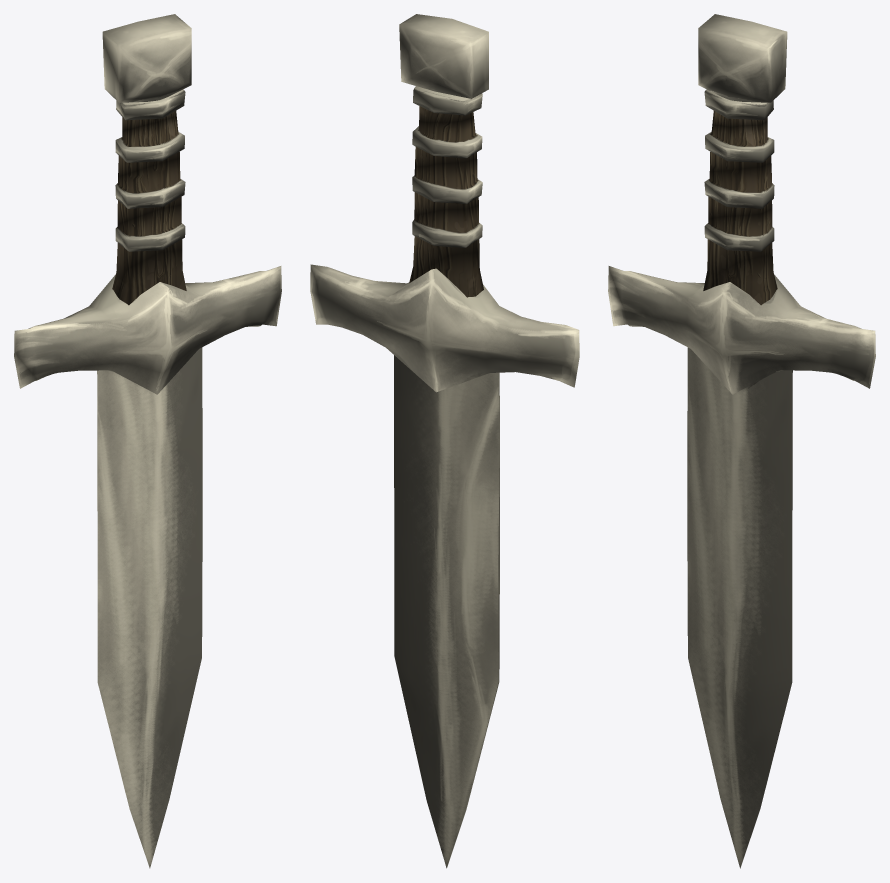
Rendered from dagger_fbx.fbx.
3 views of the same model, side by side, from view 1: azimuth 30°, elevation 25°; view 2: azimuth 150°, elevation 25°; view 3: azimuth 330°, elevation 25° (orthographic).
Parts seen in each view (by area): view 1: Object001; view 2: Object001; view 3: Object001.
Boxes of the visible parts, <box> form: Object001: <box>14,14,281,868</box>; Object001: <box>310,14,579,868</box>; Object001: <box>608,14,875,868</box>.
Bounding box in the file's own units: 77 × 231 × 19.54.
